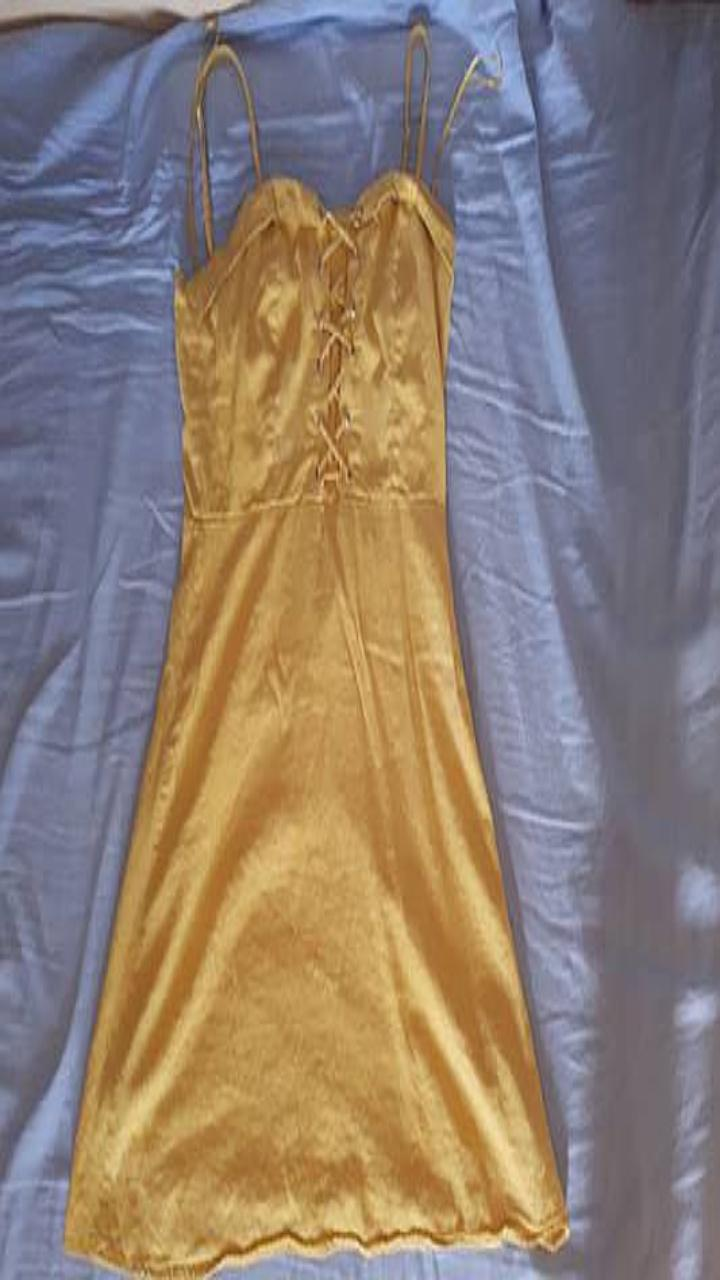Dresses: (65, 27, 567, 1276)
